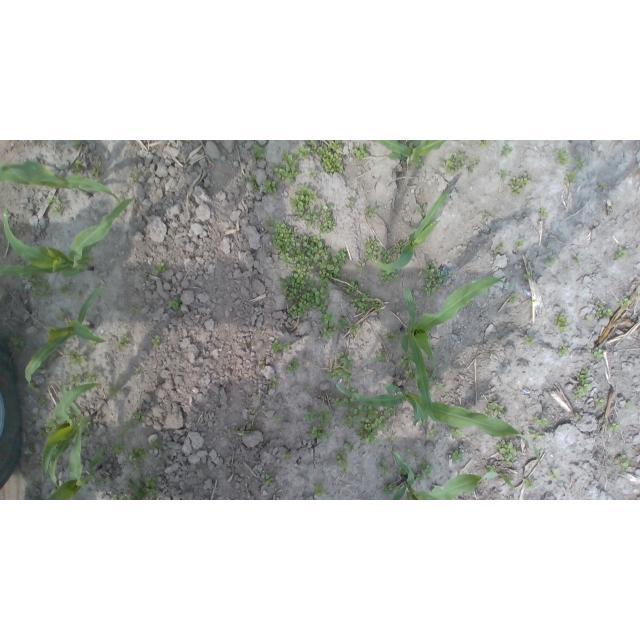Maize: (335, 380, 543, 468), (401, 277, 507, 424), (0, 199, 134, 278), (25, 288, 106, 393), (388, 450, 518, 500), (41, 382, 99, 487), (376, 189, 449, 272), (1, 161, 120, 204), (46, 424, 103, 500), (376, 140, 447, 162)
Weeds: (295, 234, 349, 286), (279, 266, 331, 319), (343, 404, 395, 444), (263, 218, 299, 269), (310, 141, 344, 178), (290, 185, 319, 228), (111, 476, 157, 500), (272, 152, 301, 185), (304, 409, 333, 442), (420, 263, 446, 298), (326, 352, 354, 382), (313, 201, 336, 233), (439, 150, 468, 174), (507, 171, 533, 197), (495, 439, 518, 466), (27, 274, 51, 298), (349, 291, 371, 316), (574, 369, 591, 399), (37, 417, 59, 440), (127, 445, 149, 465), (592, 303, 614, 321), (363, 238, 379, 262), (67, 349, 88, 367), (335, 450, 349, 477), (416, 461, 432, 483), (554, 313, 570, 334), (342, 281, 360, 299), (48, 196, 63, 217), (330, 395, 356, 407), (113, 435, 127, 457), (553, 149, 571, 166), (352, 144, 370, 161), (379, 270, 401, 283), (485, 403, 505, 417), (618, 454, 630, 476), (319, 311, 335, 327), (10, 337, 27, 352), (167, 297, 184, 312), (379, 246, 393, 264), (381, 483, 400, 496), (130, 410, 146, 425), (115, 335, 129, 352), (254, 145, 267, 163), (321, 327, 339, 340), (370, 299, 385, 314), (588, 347, 605, 360), (614, 246, 629, 260), (297, 145, 312, 159), (262, 180, 277, 194), (312, 484, 326, 499), (154, 262, 168, 276), (84, 370, 97, 385), (365, 205, 378, 220), (270, 339, 283, 354), (371, 350, 386, 363), (492, 240, 504, 256), (500, 140, 512, 156), (70, 372, 81, 389), (449, 450, 463, 463), (450, 425, 463, 439), (392, 243, 404, 258), (533, 417, 548, 429), (248, 176, 258, 193), (564, 171, 577, 184), (403, 368, 416, 381), (377, 461, 390, 474), (542, 255, 556, 267), (513, 238, 525, 252), (287, 358, 299, 372), (337, 317, 349, 331), (399, 355, 411, 369), (90, 165, 101, 180), (557, 343, 569, 356), (107, 384, 120, 396), (387, 331, 400, 343), (426, 428, 438, 441), (574, 155, 585, 169), (73, 159, 84, 173), (56, 283, 71, 293), (607, 420, 619, 432), (121, 422, 134, 433), (619, 296, 630, 309), (265, 473, 275, 487), (82, 423, 92, 437), (522, 478, 534, 489), (152, 335, 161, 349), (595, 399, 606, 410), (149, 439, 160, 450), (522, 335, 534, 345), (414, 155, 424, 167), (343, 443, 355, 453), (499, 169, 510, 179), (466, 162, 476, 173), (349, 323, 360, 333), (524, 269, 533, 281), (530, 431, 542, 440), (268, 379, 278, 389), (357, 261, 367, 271), (417, 204, 428, 213), (427, 371, 438, 380), (94, 476, 106, 484), (130, 172, 140, 181), (545, 243, 554, 253), (397, 466, 406, 476), (549, 468, 557, 479), (485, 464, 496, 472), (56, 313, 66, 321), (508, 294, 518, 302), (39, 395, 47, 405), (625, 400, 633, 409), (48, 352, 57, 360), (539, 209, 548, 217), (129, 306, 138, 314), (135, 367, 142, 377), (477, 141, 487, 148), (72, 140, 80, 148), (274, 416, 281, 425), (283, 343, 290, 352), (76, 291, 83, 299), (232, 428, 240, 435), (281, 452, 287, 461), (345, 388, 355, 393), (474, 157, 481, 164), (483, 213, 490, 220), (241, 431, 249, 437), (256, 330, 265, 335), (573, 412, 580, 418), (600, 183, 607, 189), (435, 384, 442, 390), (259, 363, 265, 369), (445, 392, 452, 397), (576, 257, 581, 264), (586, 318, 591, 324), (407, 452, 413, 457), (348, 197, 352, 204)
